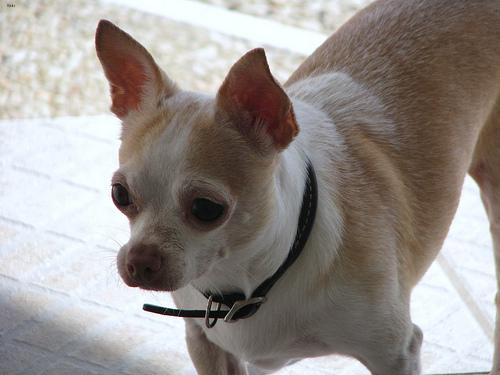dog-chihuahua: (94, 19, 298, 289)
